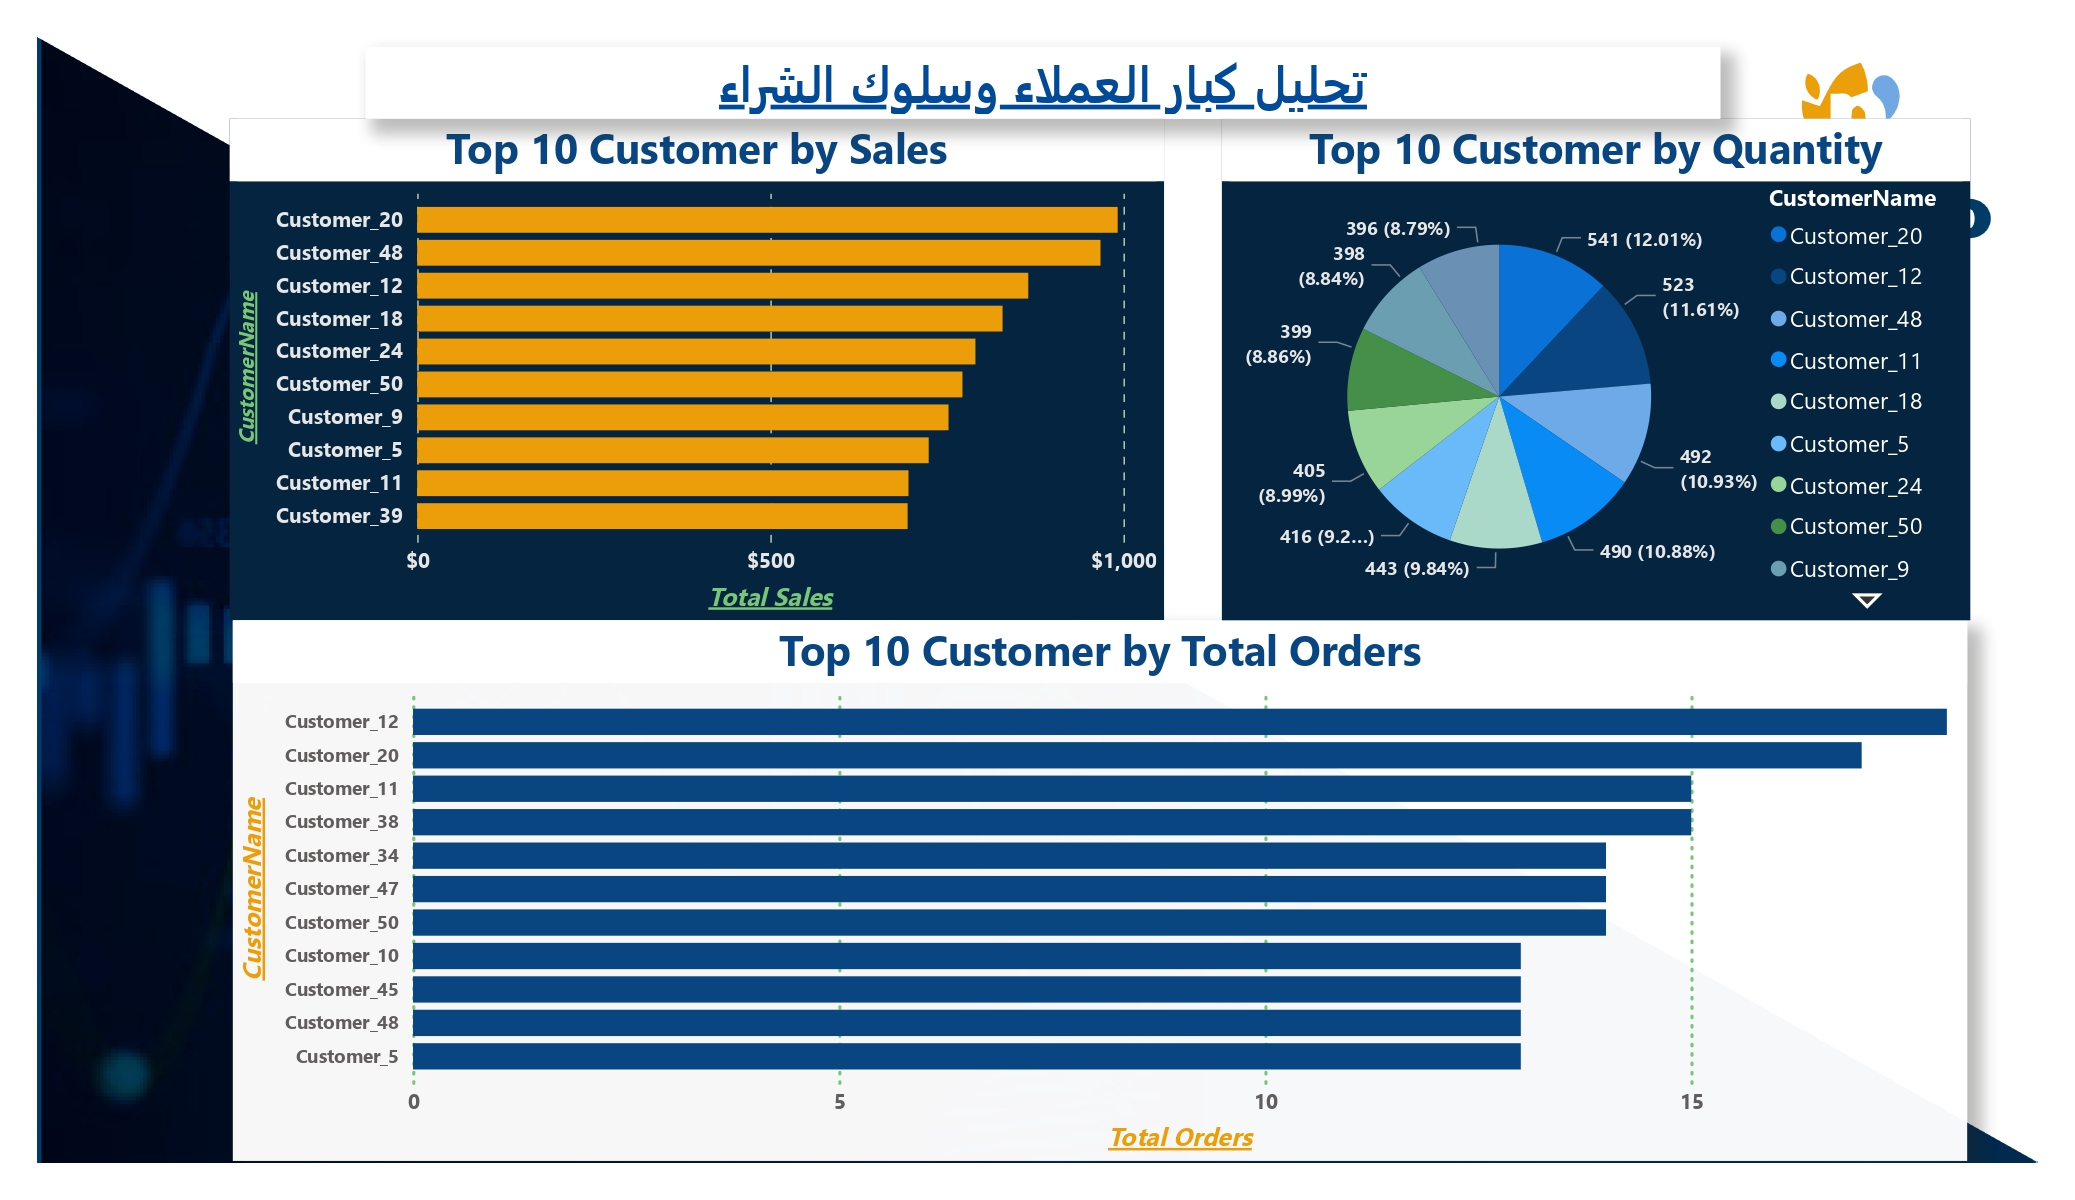

What the dashboard file says about the page in this screenshot:
{"tool":"powerbi","page":{"name":"Customer Analysis","canvas":[1280,720],"ordinal":3},"visuals":[{"type":"barChart","title":"Top 10 Customer by Sales","fields":{"Category":["Customers.CustomerName"],"Y":["InvoiceDetails.Total Sales"]},"box":[123.1,51.9,598.1,321.2],"z":0},{"type":"clusteredBarChart","title":"Top 10 Customer by Total Orders","fields":{"Category":["Customers.CustomerName"],"Y":["InvoiceDetails.Total Orders"]},"box":[125,373.1,1109.6,346.2],"z":1000},{"type":"pieChart","title":"Top 10 Customer by Quantity ","fields":{"Category":["Customers.CustomerName"],"Y":["InvoiceDetails.Total Quantity"]},"box":[757.7,51.9,478.8,321.2],"z":2000},{"type":"textbox","title":"تحليل كبار العملاء وسلوك الشراء","box":[209.6,5.8,867.3,46.2],"z":3000}]}

Visuals, with their boxes on the page's 1280x720 design canvas (x1, y1, x2, y2). These are canvas units, not pixel positions in the 2075x1200 screenshot, which may show the page scaled, cropped or inside an application window:
"Top 10 Customer by Sales" barChart: bbox(123, 52, 721, 373)
"Top 10 Customer by Total Orders" clusteredBarChart: bbox(125, 373, 1235, 719)
"Top 10 Customer by Quantity " pieChart: bbox(758, 52, 1236, 373)
"تحليل كبار العملاء وسلوك الشراء" textbox: bbox(210, 6, 1077, 52)
